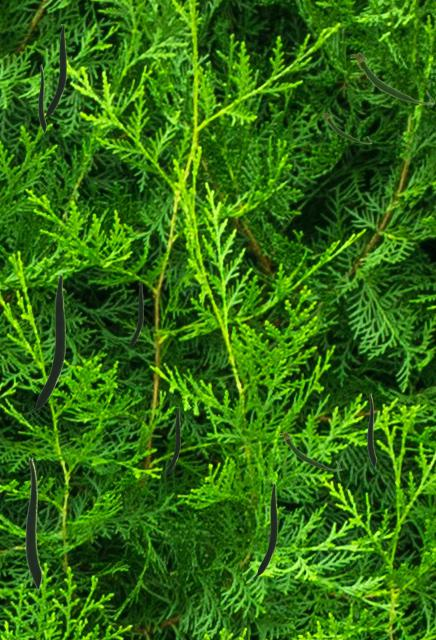french_bean: (27, 274, 64, 412), (349, 51, 434, 104), (278, 431, 341, 470), (252, 483, 276, 577), (25, 457, 41, 589), (45, 24, 65, 117), (321, 112, 371, 143), (163, 407, 179, 475), (126, 280, 142, 348), (367, 393, 375, 467), (38, 64, 45, 132)
